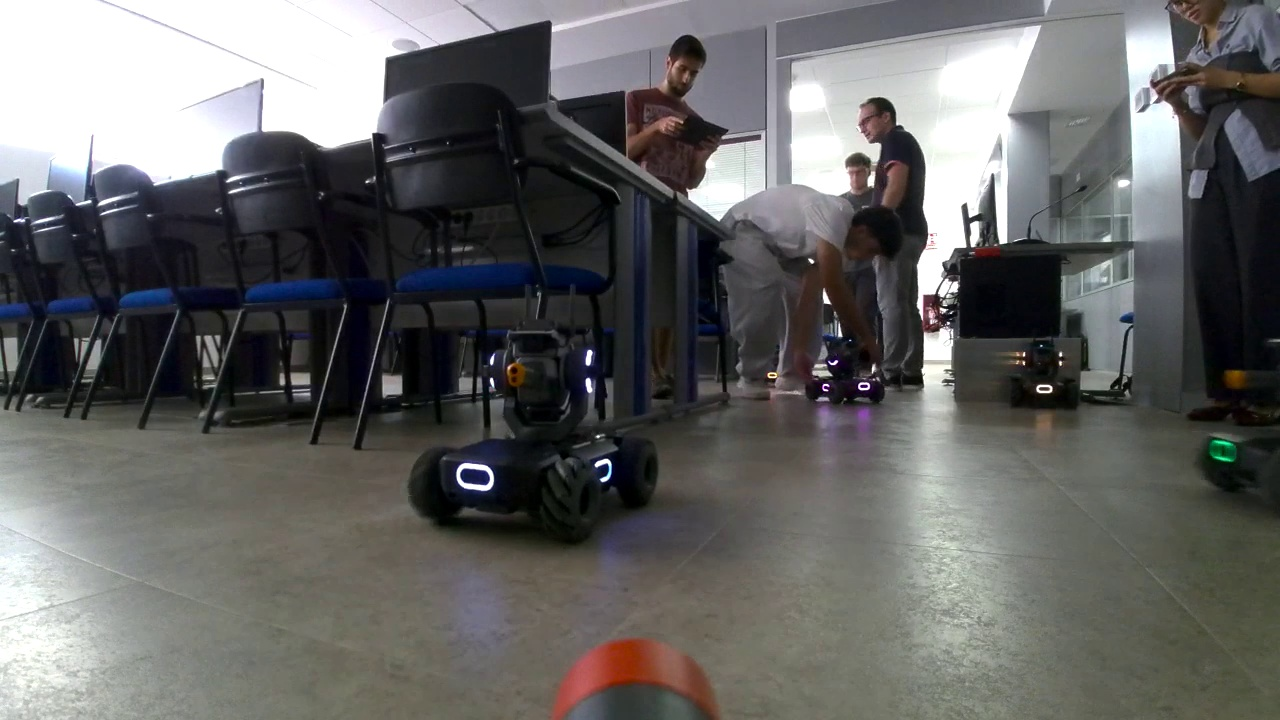robot: (406, 283, 660, 547), (1195, 333, 1280, 497), (1010, 329, 1080, 412), (803, 343, 888, 402)
